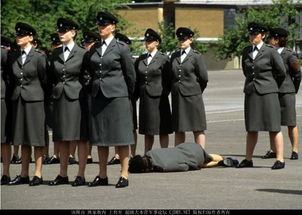10+: (1, 15, 301, 190)
down: (123, 137, 244, 172)
